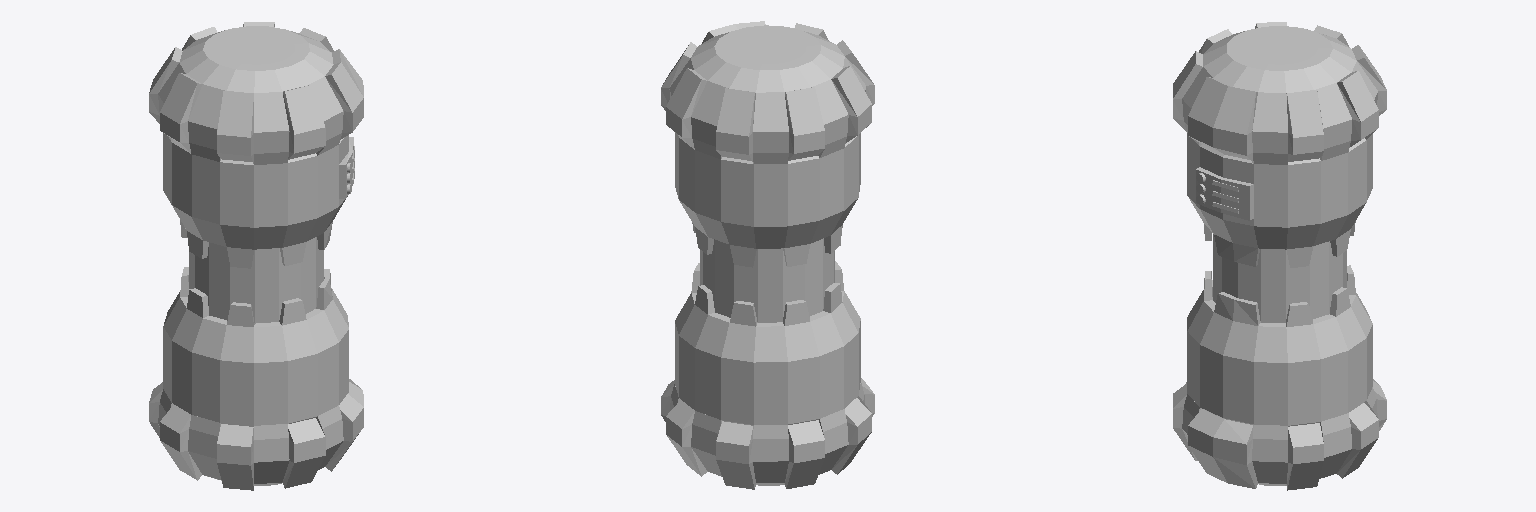
File: POWER UP.obj
3 renders of one model, left to right at view 1: azimuth 30°, elevation 25°; view 2: azimuth 150°, elevation 25°; view 3: azimuth 270°, elevation 25°, orthographic.
Parts seen in each view (by area): view 1: Cylinder_Cylinder.004, Cylinder.004_Cylinder.008; view 2: Cylinder_Cylinder.004, Cylinder.004_Cylinder.008; view 3: Cylinder_Cylinder.004, Cylinder.004_Cylinder.008.
Boxes of the visible parts, x1=… form: Cylinder_Cylinder.004: x1=149, y1=22, x2=363, y2=490; Cylinder.004_Cylinder.008: x1=189, y1=237, x2=323, y2=323; Cylinder_Cylinder.004: x1=661, y1=21, x2=874, y2=489; Cylinder.004_Cylinder.008: x1=700, y1=238, x2=834, y2=322; Cylinder_Cylinder.004: x1=1173, y1=22, x2=1386, y2=490; Cylinder.004_Cylinder.008: x1=1213, y1=234, x2=1346, y2=322.
Bounding box in the file's own units: 2.28 × 4.87 × 2.28.